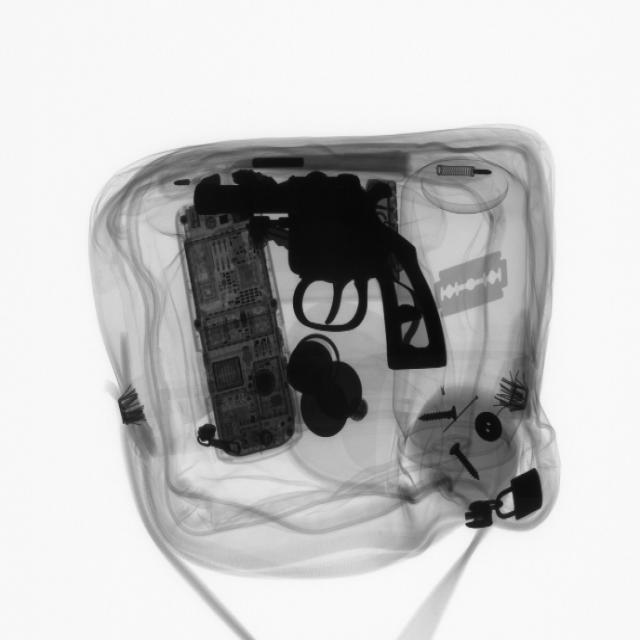BLADE: (434, 249, 515, 320)
GUN: (196, 176, 446, 384)
SCREW: (446, 440, 489, 487), (415, 400, 465, 432)
